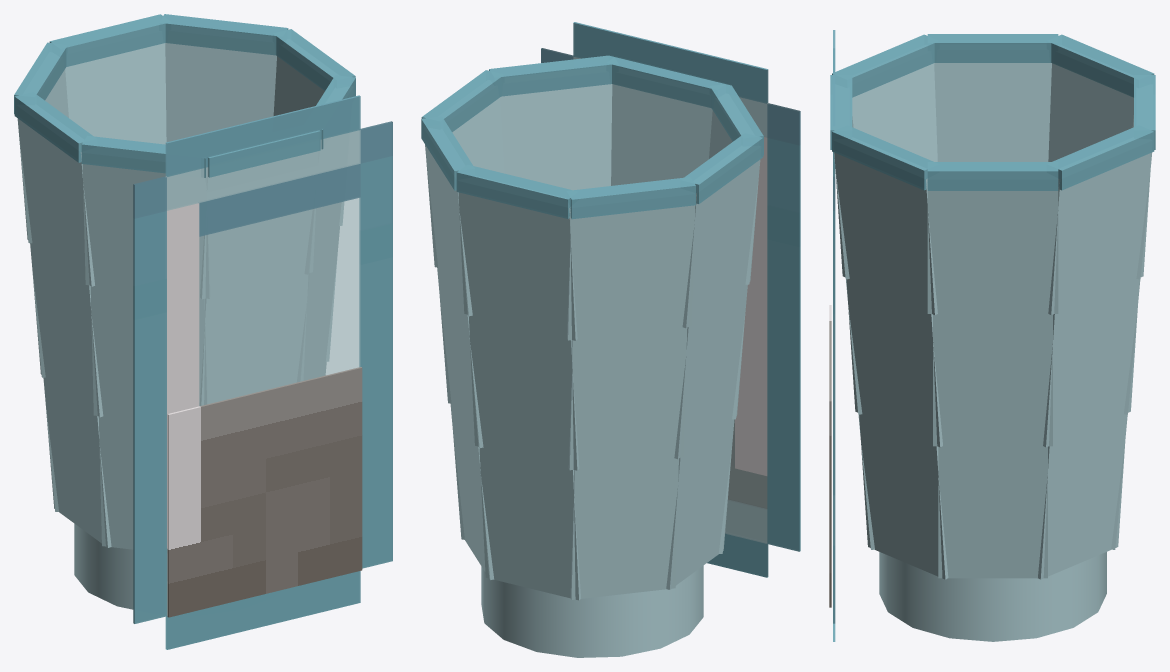
File: CMU3DDrinkIcedCoffeeGlass.glb
The picture shows the model from 3 angles, left to right: view 1: azimuth 30°, elevation 25°; view 2: azimuth 150°, elevation 25°; view 3: azimuth 270°, elevation 25°; orthographic projection.
Visible parts, largest first — view 1: base original source artwork, fill original source artwork, hollow wall tier 2 facet 7, hollow wall tier 3 facet 2, hollow wall tier 3 facet 3, hollow wall tier 3 facet 7, hollow wall tier 2 facet 5, hollow wall tier 3 facet 5, hollow wall tier 1 facet 5, hollow wall tier 3 facet 6, hollow wall tier 2 facet 6, hollow wall tier 1 facet 6 (+13 smaller); view 2: base original source artwork, hollow wall tier 3 facet 4, hollow wall tier 2 facet 4, hollow wall tier 1 facet 4, hollow wall tier 2 facet 3, hollow wall tier 3 facet 3, heavy glass foot, hollow wall tier 1 facet 3, hollow wall tier 3 facet 8, hollow wall tier 3 facet 7, hollow wall tier 2 facet 5, hollow wall tier 3 facet 5 (+16 smaller); view 3: hollow wall tier 3 facet 1, hollow wall tier 2 facet 1, hollow wall tier 1 facet 1, heavy glass foot, hollow wall tier 3 facet 5, hollow wall tier 2 facet 2, hollow wall tier 2 facet 8, hollow wall tier 3 facet 2, hollow wall tier 3 facet 8, hollow wall tier 1 facet 8, hollow wall tier 1 facet 2, hollow wall tier 3 facet 6 (+11 smaller).
Boxes of the visible parts, <box> form: base original source artwork: <box>133,95,392,649</box>; fill original source artwork: <box>167,367,362,617</box>; hollow wall tier 2 facet 7: <box>200,272,308,405</box>; hollow wall tier 3 facet 2: <box>165,43,276,141</box>; hollow wall tier 3 facet 3: <box>65,43,166,144</box>; hollow wall tier 3 facet 7: <box>200,152,317,298</box>; hollow wall tier 2 facet 5: <box>30,242,103,417</box>; hollow wall tier 3 facet 5: <box>17,118,94,286</box>; hollow wall tier 1 facet 5: <box>43,376,111,547</box>; hollow wall tier 3 facet 6: <box>82,164,210,298</box>; hollow wall tier 2 facet 6: <box>90,284,207,417</box>; hollow wall tier 1 facet 6: <box>98,414,167,553</box>; base original source artwork: <box>541,22,800,577</box>; hollow wall tier 3 facet 4: <box>567,205,695,340</box>; hollow wall tier 2 facet 4: <box>568,325,687,470</box>; hollow wall tier 1 facet 4: <box>570,456,678,599</box>; hollow wall tier 2 facet 3: <box>469,314,579,470</box>; hollow wall tier 3 facet 3: <box>458,192,577,340</box>; heavy glass foot: <box>481,565,703,657</box>; hollow wall tier 1 facet 3: <box>479,446,580,600</box>; hollow wall tier 3 facet 8: <box>500,84,612,190</box>; hollow wall tier 3 facet 7: <box>611,84,712,185</box>; hollow wall tier 2 facet 5: <box>674,283,747,459</box>; hollow wall tier 3 facet 5: <box>682,160,760,328</box>; hollow wall tier 3 facet 1: <box>927,191,1058,313</box>; hollow wall tier 2 facet 1: <box>933,312,1052,446</box>; hollow wall tier 1 facet 1: <box>938,444,1047,578</box>; heavy glass foot: <box>879,552,1106,641</box>; hollow wall tier 3 facet 5: <box>934,63,1051,161</box>; hollow wall tier 2 facet 2: <box>1043,277,1139,447</box>; hollow wall tier 2 facet 8: <box>846,277,942,447</box>; hollow wall tier 3 facet 2: <box>1048,153,1151,315</box>; hollow wall tier 3 facet 8: <box>834,152,937,314</box>; hollow wall tier 1 facet 8: <box>859,413,948,579</box>; hollow wall tier 1 facet 2: <box>1038,414,1126,579</box>; hollow wall tier 3 facet 6: <box>852,63,937,161</box>.
Size of what is drawn, in the model's own units: 0.268 by 0.4688 by 0.269.
5 materials, 2 textured.
